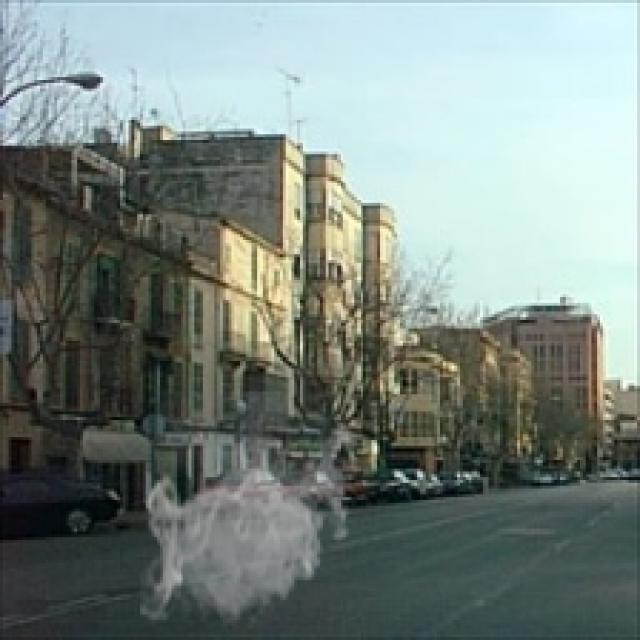smoke: (140, 392, 363, 628)
